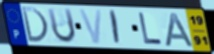A: (164, 12, 197, 49)
D: (20, 6, 50, 44)
I: (109, 9, 122, 47)
L: (138, 12, 164, 47)
U: (46, 7, 78, 45)
V: (77, 8, 104, 46)
